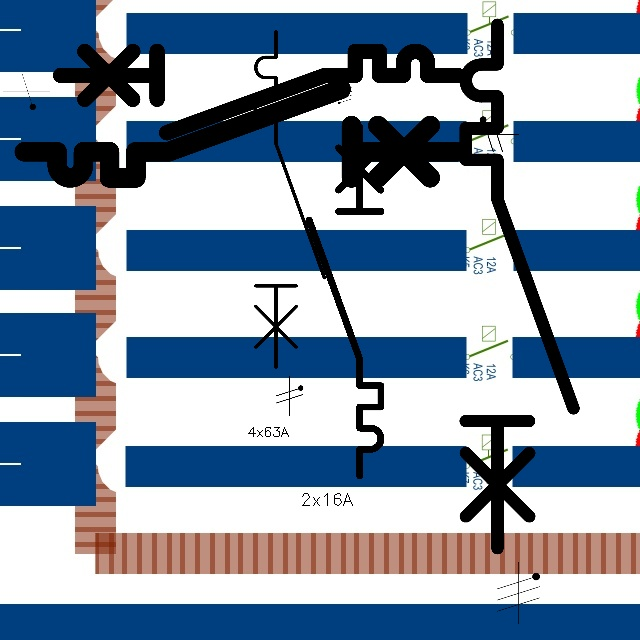interruptor_termomagnetico: (452, 11, 587, 561), (13, 78, 467, 189), (50, 41, 467, 143), (300, 117, 390, 484), (247, 23, 333, 376)
